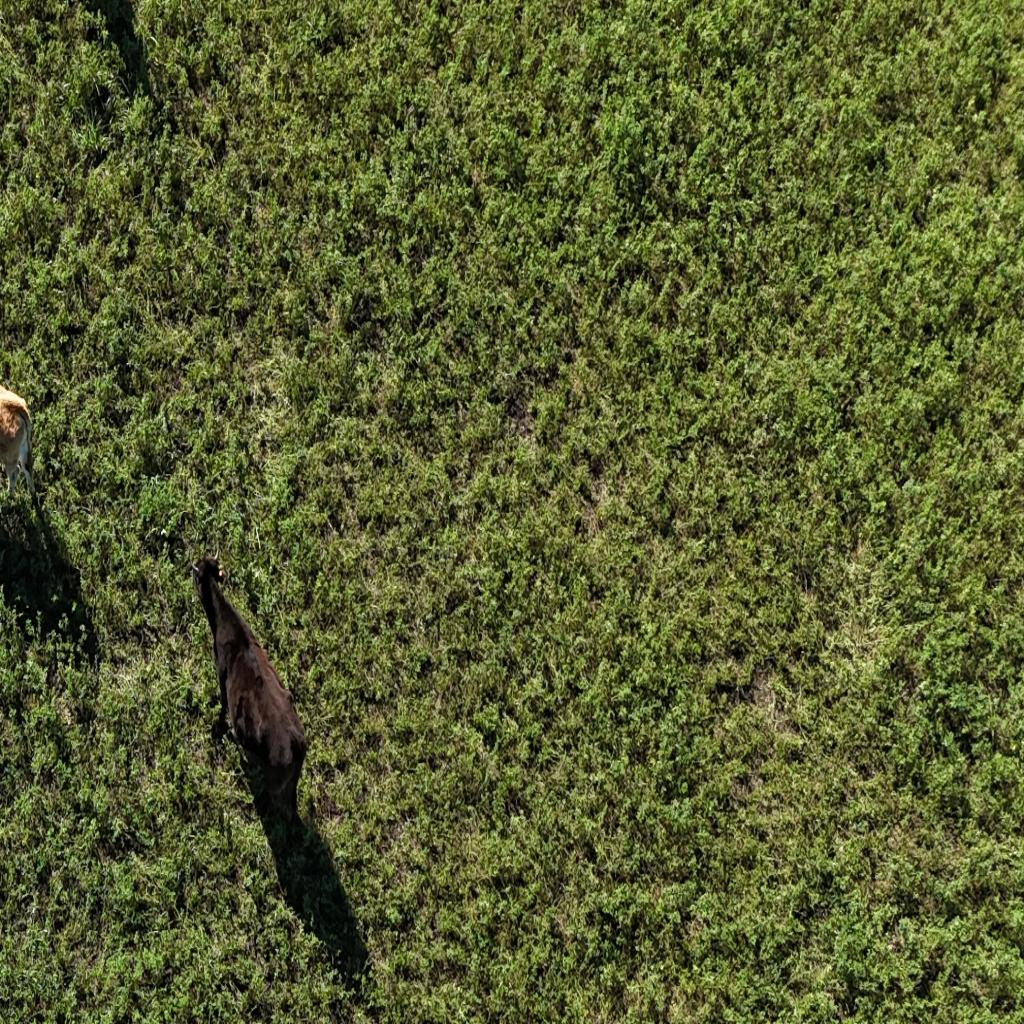cow: (188, 541, 313, 832), (1, 379, 41, 515)
